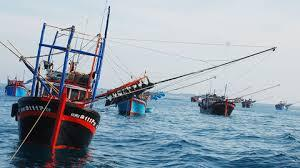Ship: (12, 7, 110, 162), (118, 93, 152, 117), (200, 95, 236, 117)
